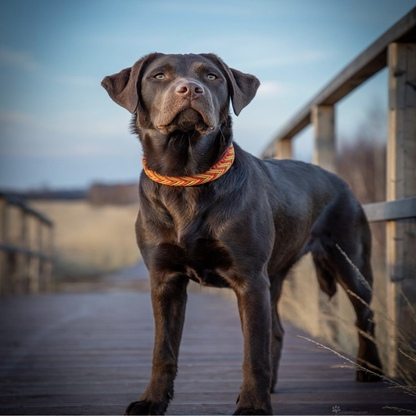labrado: (100, 48, 390, 416)
